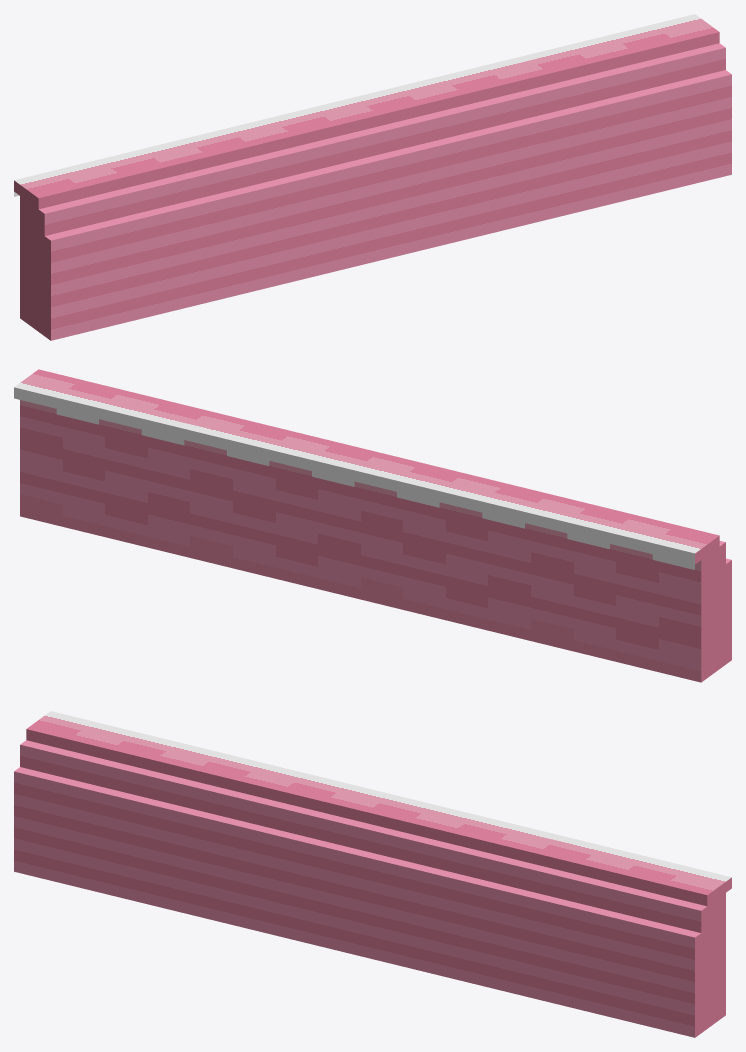
Rendered from wave_pink.glb.
3 views of the same model, one above another, from view 1: azimuth 30°, elevation 25°; view 2: azimuth 150°, elevation 25°; view 3: azimuth 330°, elevation 25° (orthographic).
Parts seen in each view (by area): view 1: cube; view 2: cube; view 3: cube.
Boxes of the visible parts, x1,y1,x2,y2 form: cube: [14, 14, 731, 340]; cube: [14, 369, 731, 682]; cube: [14, 711, 731, 1037].
Bounding box in the file's own units: 64 × 12 × 6.
Materials: 1 (1 with a texture image).
